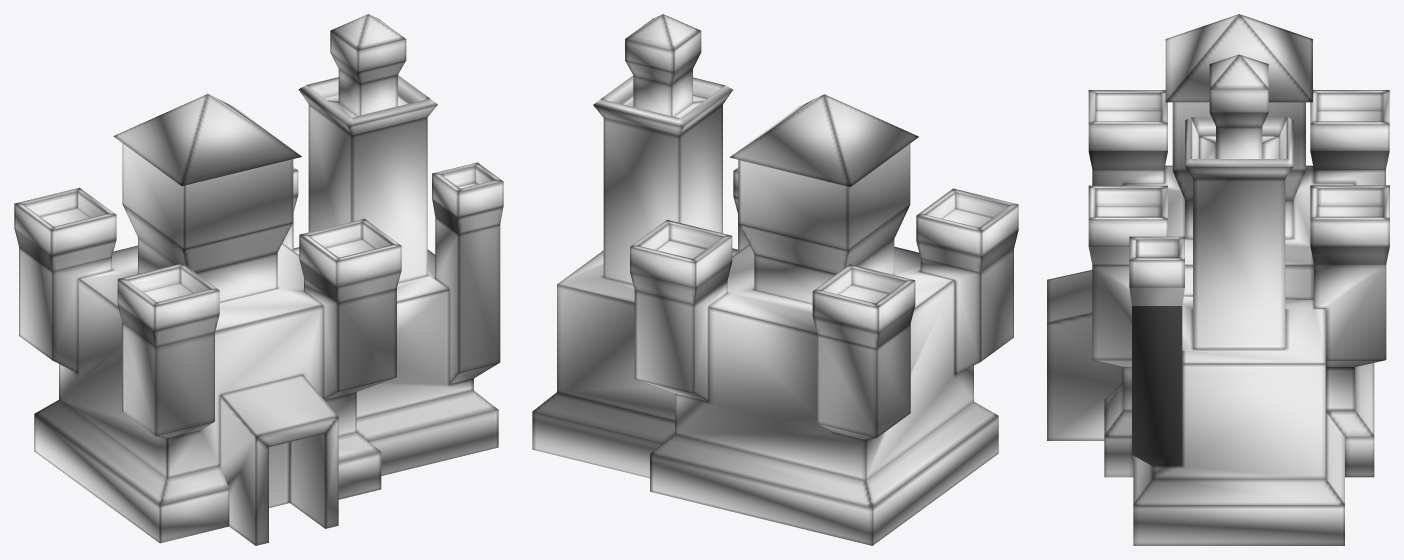
File: Castle-01.fbx
3 views of the same model, side by side, from view 1: azimuth 30°, elevation 25°; view 2: azimuth 150°, elevation 25°; view 3: azimuth 270°, elevation 25° (orthographic). The views are drawn at different scales.
Visible parts, largest first — view 1: Castle; view 2: Castle; view 3: Castle.
Part boxes in pixels (left/top/right/bottom): Castle: left=14, top=14, right=503, bottom=545; Castle: left=532, top=14, right=1018, bottom=545; Castle: left=1047, top=14, right=1389, bottom=545.
Size of the model in its own units: 4 by 4.33 by 3.
